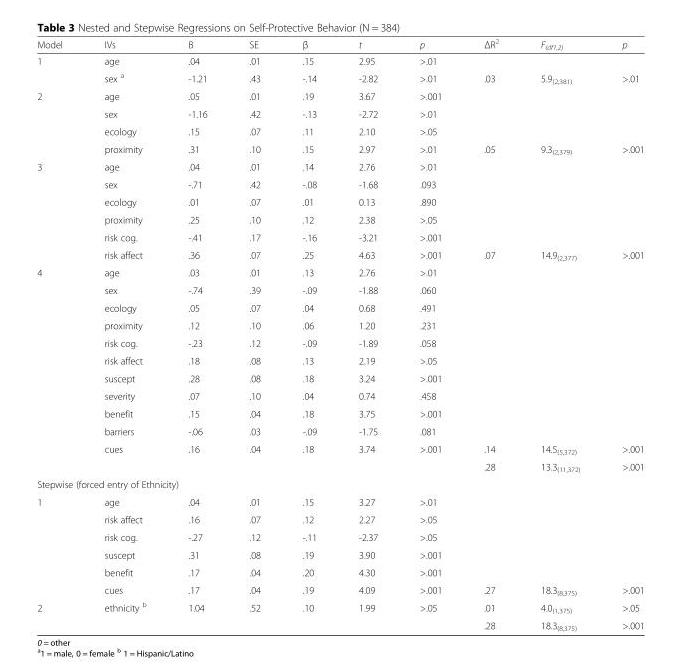table: (36, 36, 643, 631)
table column: (82, 36, 166, 631), (519, 36, 600, 631), (398, 36, 462, 631), (166, 36, 227, 631), (337, 36, 398, 631), (280, 36, 337, 631), (462, 36, 519, 631), (227, 36, 280, 631), (36, 36, 82, 631), (600, 36, 643, 631)
table column header: (36, 36, 643, 52)
table projected row header: (36, 475, 643, 492)
table row: (36, 68, 643, 87), (36, 104, 643, 122), (36, 122, 643, 140), (36, 140, 643, 158), (36, 192, 643, 210), (36, 210, 643, 228), (36, 245, 643, 263), (36, 263, 643, 281), (36, 298, 643, 316), (36, 316, 643, 334), (36, 351, 643, 369), (36, 386, 643, 404), (36, 404, 643, 422), (36, 439, 643, 457), (36, 457, 643, 475), (36, 492, 643, 510), (36, 510, 643, 528), (36, 545, 643, 563), (36, 580, 643, 598), (36, 598, 643, 616), (36, 87, 643, 104), (36, 158, 643, 175), (36, 175, 643, 192), (36, 228, 643, 245), (36, 281, 643, 298), (36, 334, 643, 351), (36, 369, 643, 386), (36, 422, 643, 439), (36, 475, 643, 492), (36, 528, 643, 545), (36, 563, 643, 580), (36, 36, 643, 52), (36, 52, 643, 68), (36, 616, 643, 631)
table spanning cell: (36, 263, 82, 475), (36, 492, 82, 598), (36, 158, 82, 263), (36, 87, 82, 158), (36, 52, 82, 87), (36, 598, 82, 631)
